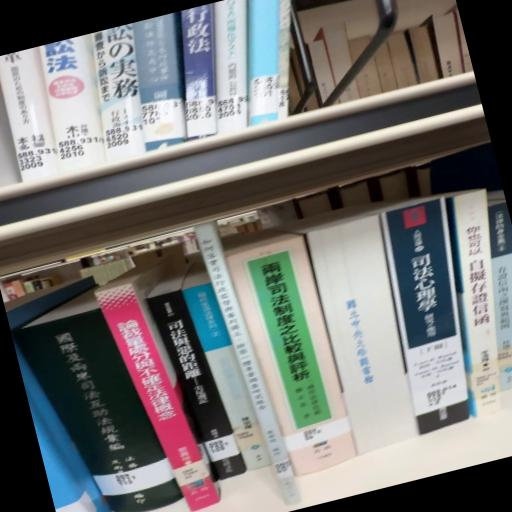backward: (280, 207, 419, 455), (428, 198, 451, 281)
book: (7, 288, 183, 512), (92, 250, 234, 512), (223, 227, 350, 443), (142, 270, 245, 492)
